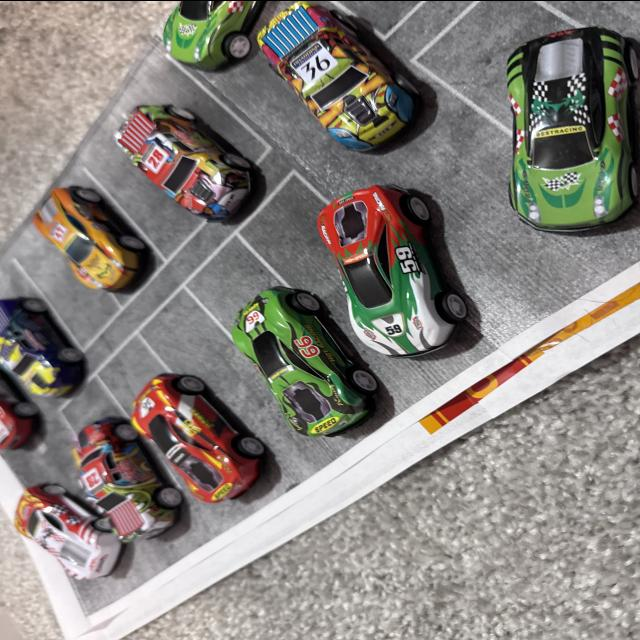Car: (462, 31, 640, 292), (78, 59, 278, 212), (284, 188, 449, 370), (197, 282, 375, 434), (240, 24, 420, 158), (0, 285, 110, 423), (117, 0, 260, 87), (126, 382, 240, 479), (12, 492, 120, 590), (22, 152, 91, 290), (83, 448, 159, 548)
